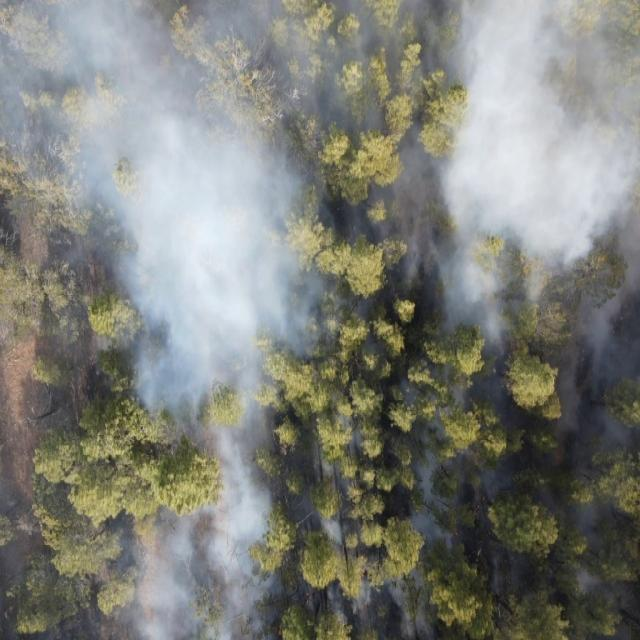fire: (356, 602, 372, 619), (276, 617, 284, 640), (304, 590, 316, 604)
smoke: (221, 0, 640, 504), (0, 0, 221, 422), (130, 504, 640, 640), (0, 525, 131, 640), (173, 422, 220, 459)
